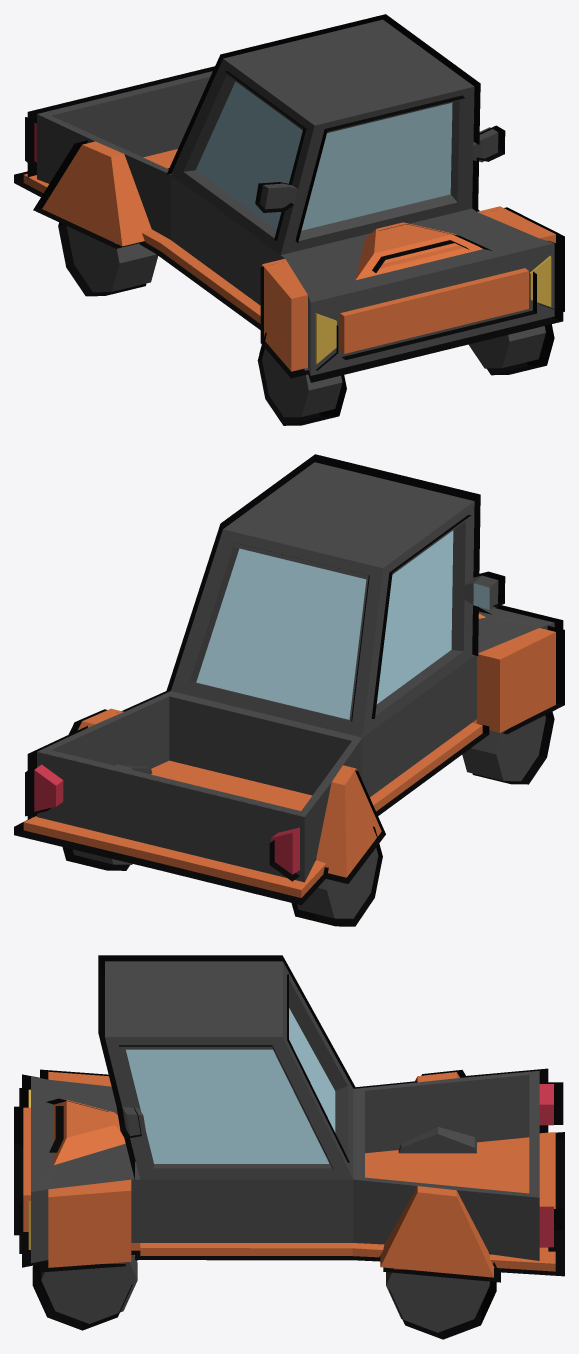
Rendered from pickup.fbx.
3 renders of one model, top to bottom at view 1: azimuth 30°, elevation 25°; view 2: azimuth 150°, elevation 25°; view 3: azimuth 270°, elevation 25°, orthographic. The views are drawn at different scales.
Parts seen in each view (by area): view 1: pickup, exaggerationToonLine; view 2: pickup, exaggerationToonLine; view 3: pickup, exaggerationToonLine.
Boxes of the visible parts, bbox=[...] form: pickup: bbox=[23, 19, 555, 417]; exaggerationToonLine: bbox=[14, 14, 564, 425]; pickup: bbox=[23, 462, 555, 918]; exaggerationToonLine: bbox=[14, 454, 564, 926]; pickup: bbox=[23, 961, 555, 1332]; exaggerationToonLine: bbox=[14, 955, 564, 1339].
Bounding box in the file's own units: 119 × 105 × 186.
